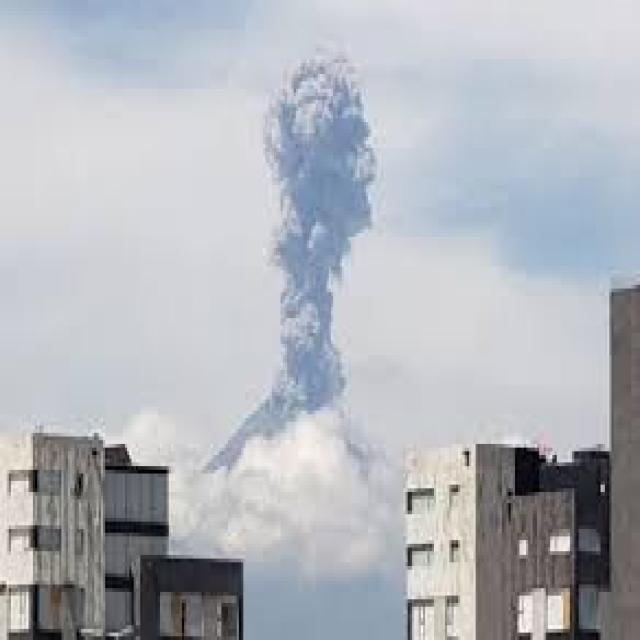Smoke: (259, 33, 379, 430)
